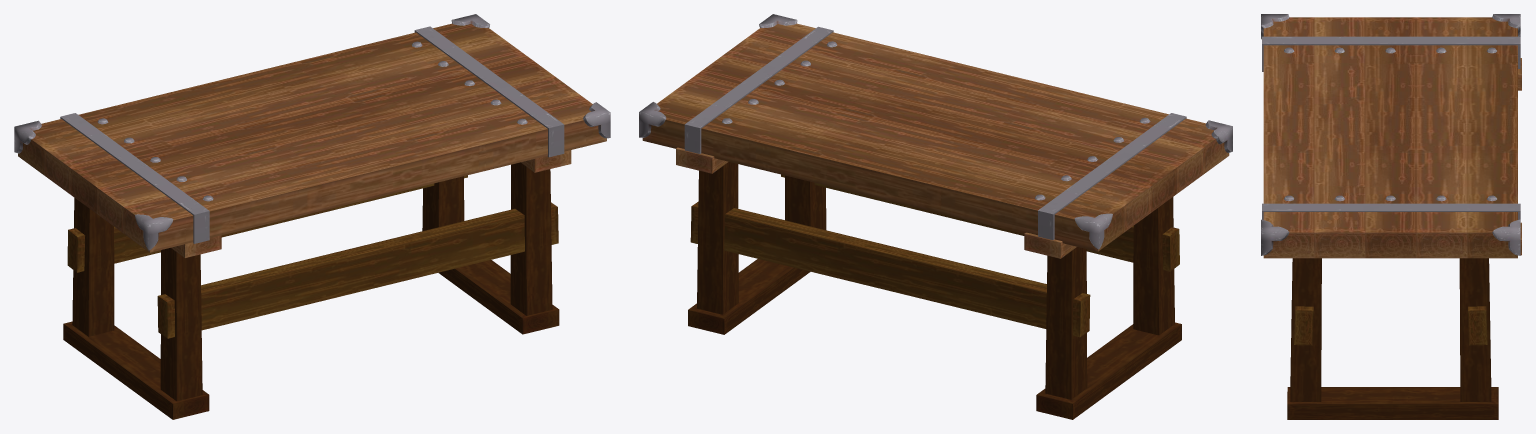
The model's file is quaternius-fantasy-props-workbench.glb.
The picture shows the model from 3 angles, left to right: view 1: azimuth 30°, elevation 25°; view 2: azimuth 150°, elevation 25°; view 3: azimuth 270°, elevation 25°; orthographic projection. The views are drawn at different scales.
Visible parts, largest first — view 1: Workbench; view 2: Workbench; view 3: Workbench.
Part boxes in pixels (x1,y1,x2,y2): Workbench: [14, 14, 610, 419]; Workbench: [639, 14, 1232, 419]; Workbench: [1261, 14, 1521, 419].
Bounding box in the file's own units: 2 × 0.8862 × 1.01.
2 materials, 2 textured.
